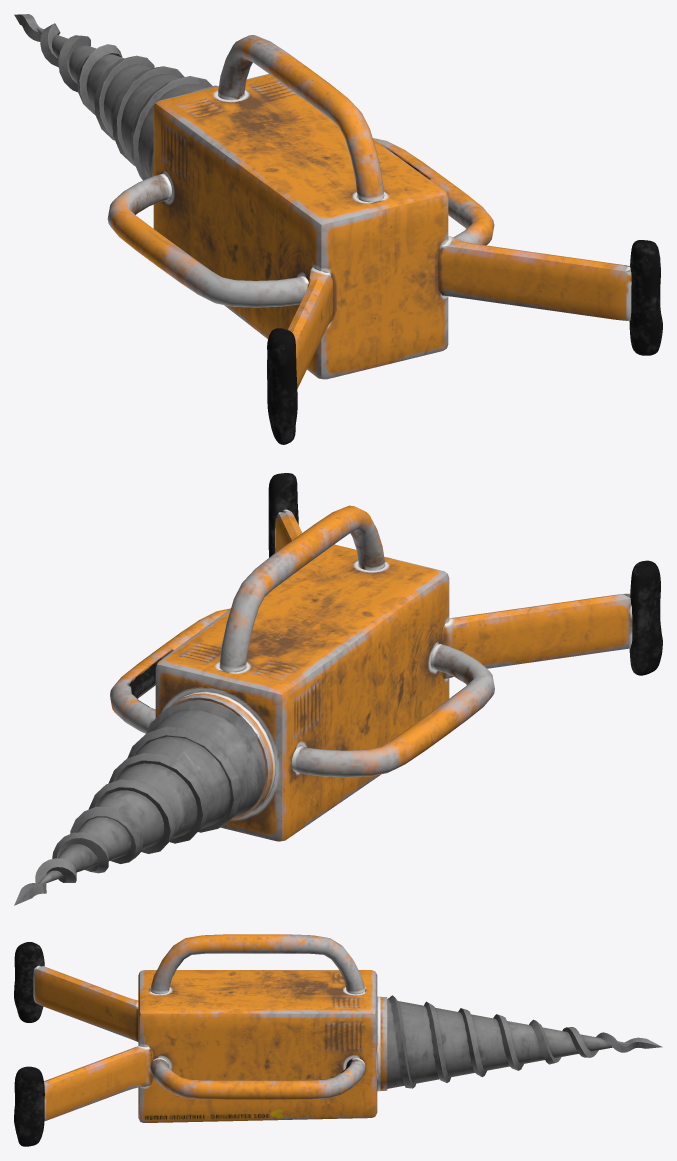
The model's file is industrial_drill.glb.
3 views of the same model, one above another, from view 1: azimuth 30°, elevation 25°; view 2: azimuth 150°, elevation 25°; view 3: azimuth 270°, elevation 25° (orthographic). The views are drawn at different scales.
Visible parts, largest first — view 1: Body_Low, Cone; view 2: Body_Low, Cone; view 3: Body_Low, Cone.
Boxes of the visible parts, <box> form: Body_Low: <box>107,35,662,444</box>; Cone: <box>14,14,217,180</box>; Body_Low: <box>110,473,662,841</box>; Cone: <box>14,700,265,905</box>; Body_Low: <box>14,934,387,1146</box>; Cone: <box>387,995,662,1088</box>.
Bounding box in the file's own units: 0.1055 × 0.0619 × 0.217.
Materials: 1 (1 with a texture image).
